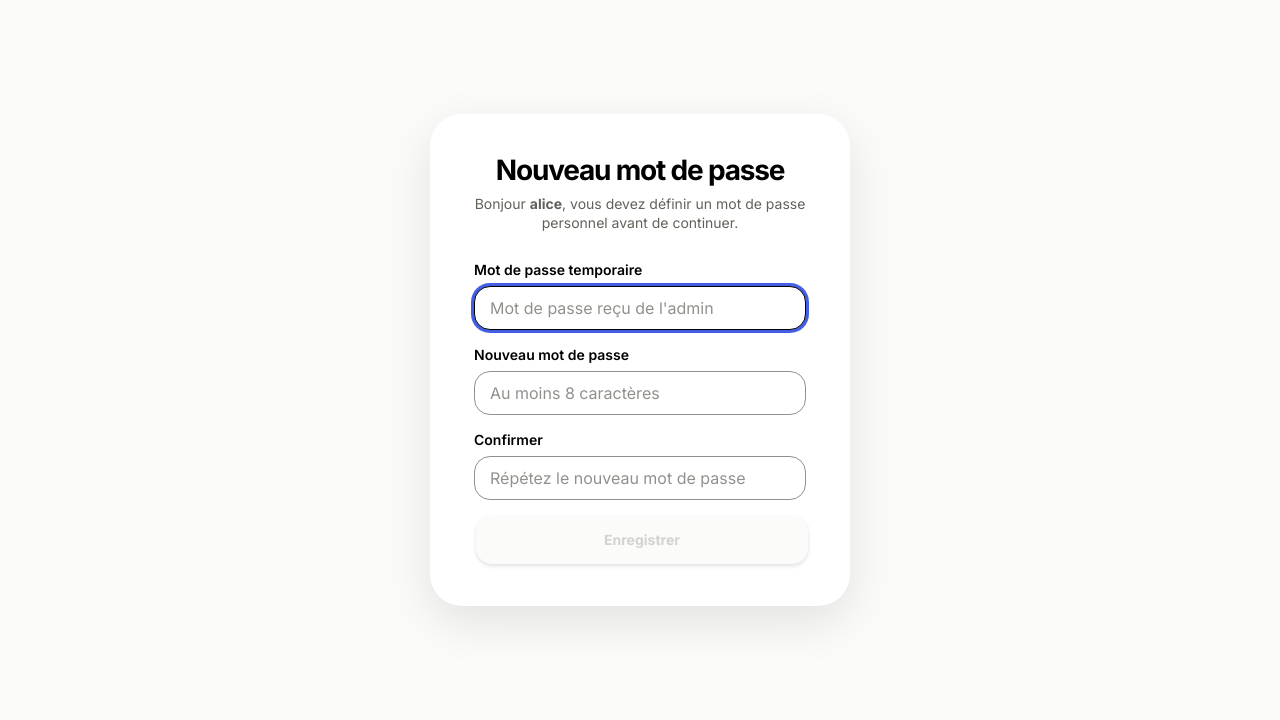
Test: ChangePasswordPage › affiche une erreur en cas de mauvais ancien mot de passe
Type "mauvais" into the password field labelled "Mot de passe temporaire" at point(640, 308), box [474,286,806,330]
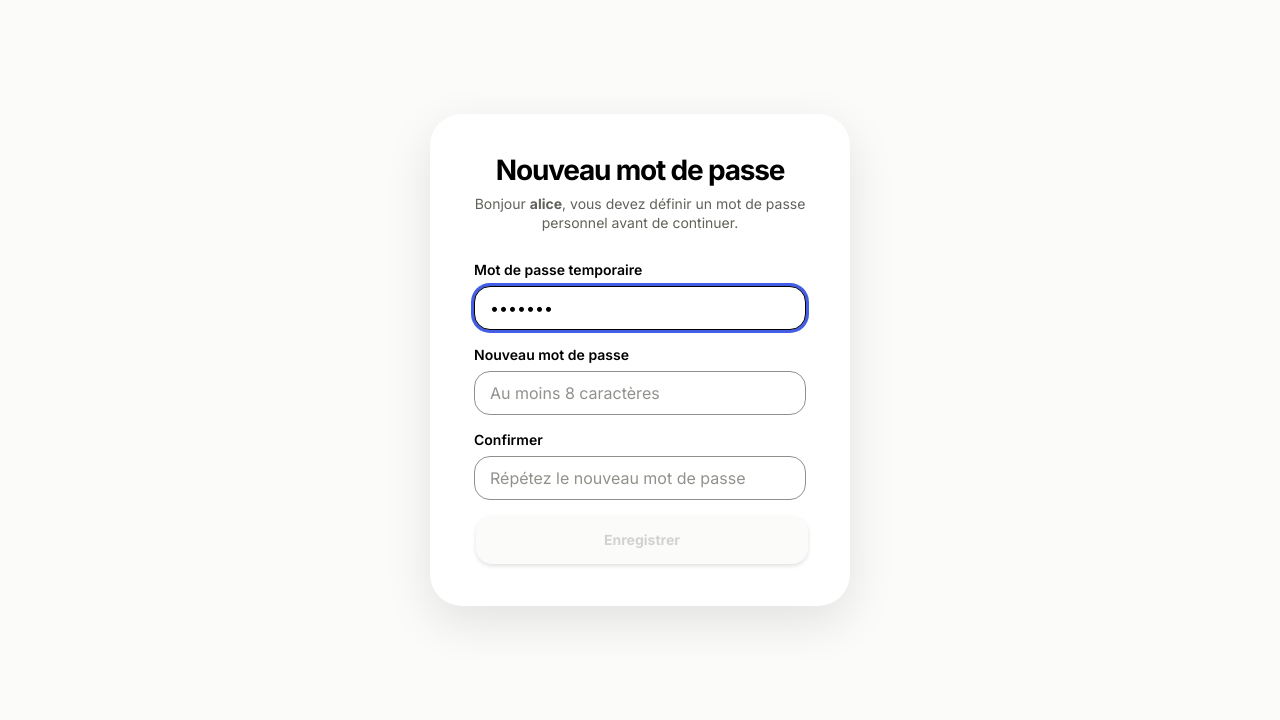
Type "nouveauPass1!" into the password field labelled "Nouveau mot de passe" at point(640, 393), box [474,371,806,415]
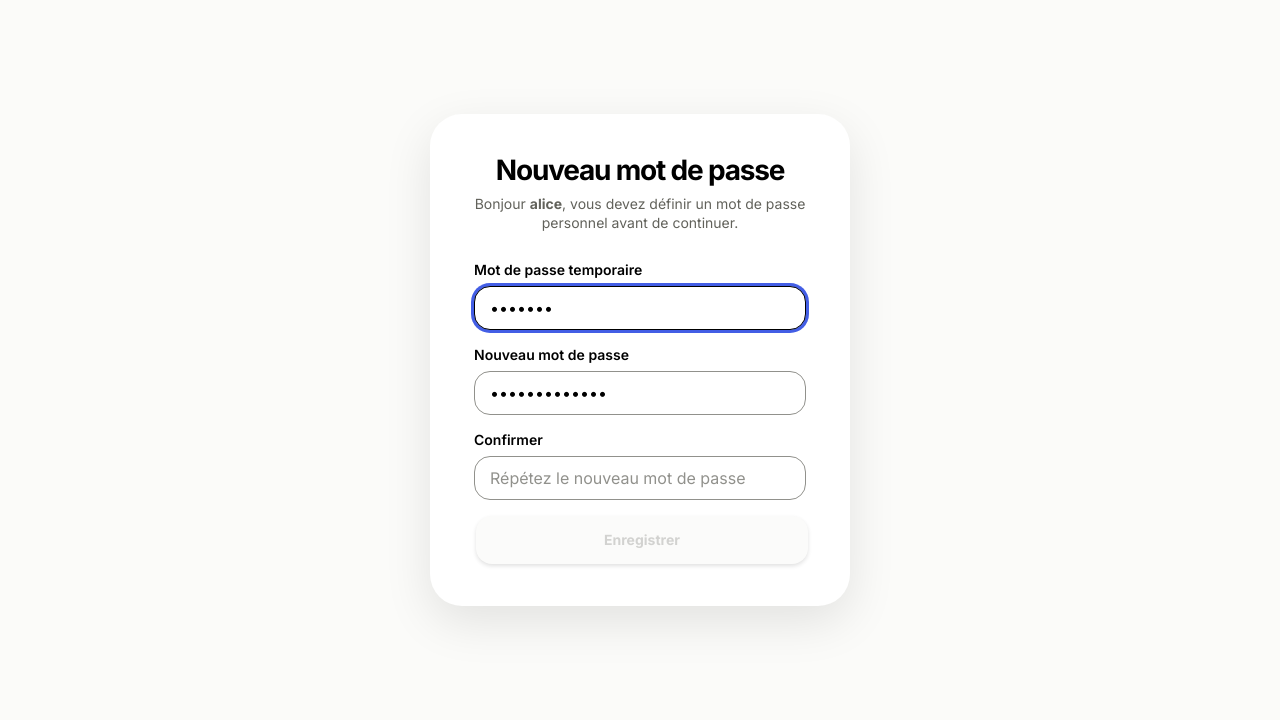
Type "nouveauPass1!" into the password field labelled "Confirmer" at point(640, 478), box [474,456,806,500]
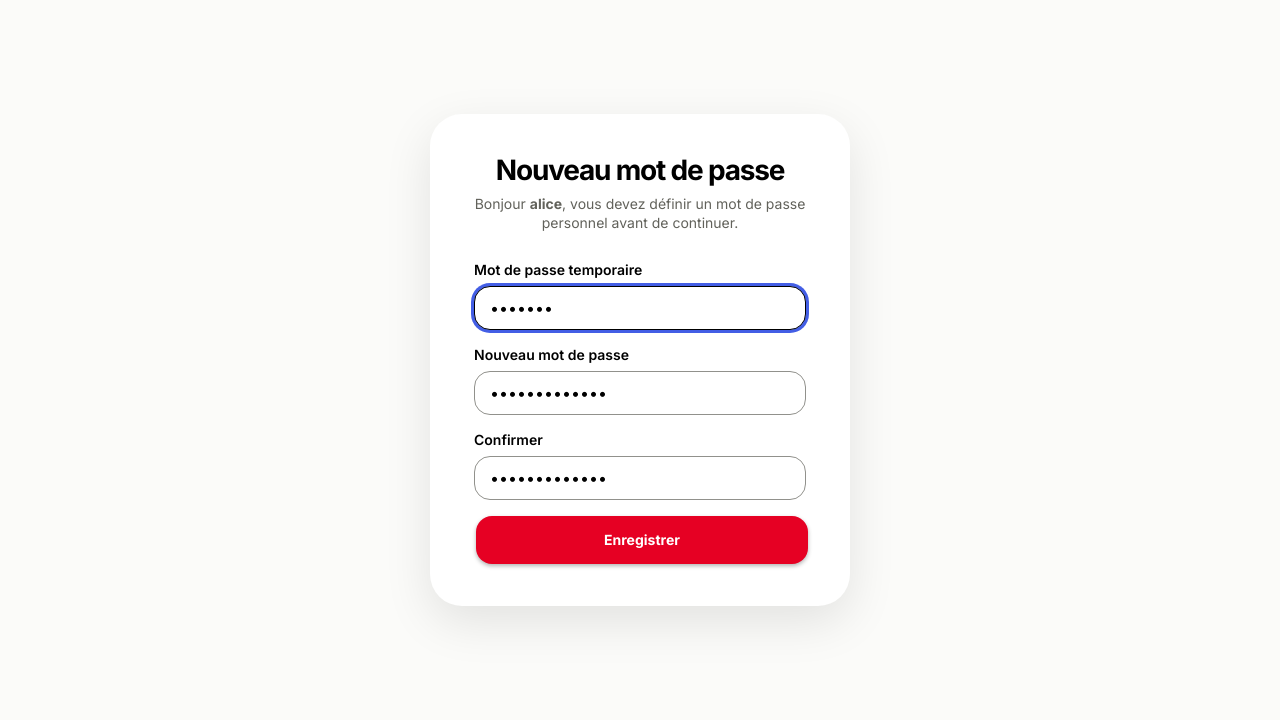
Click the button "Enregistrer" at point(642, 540), box [476,516,808,564]
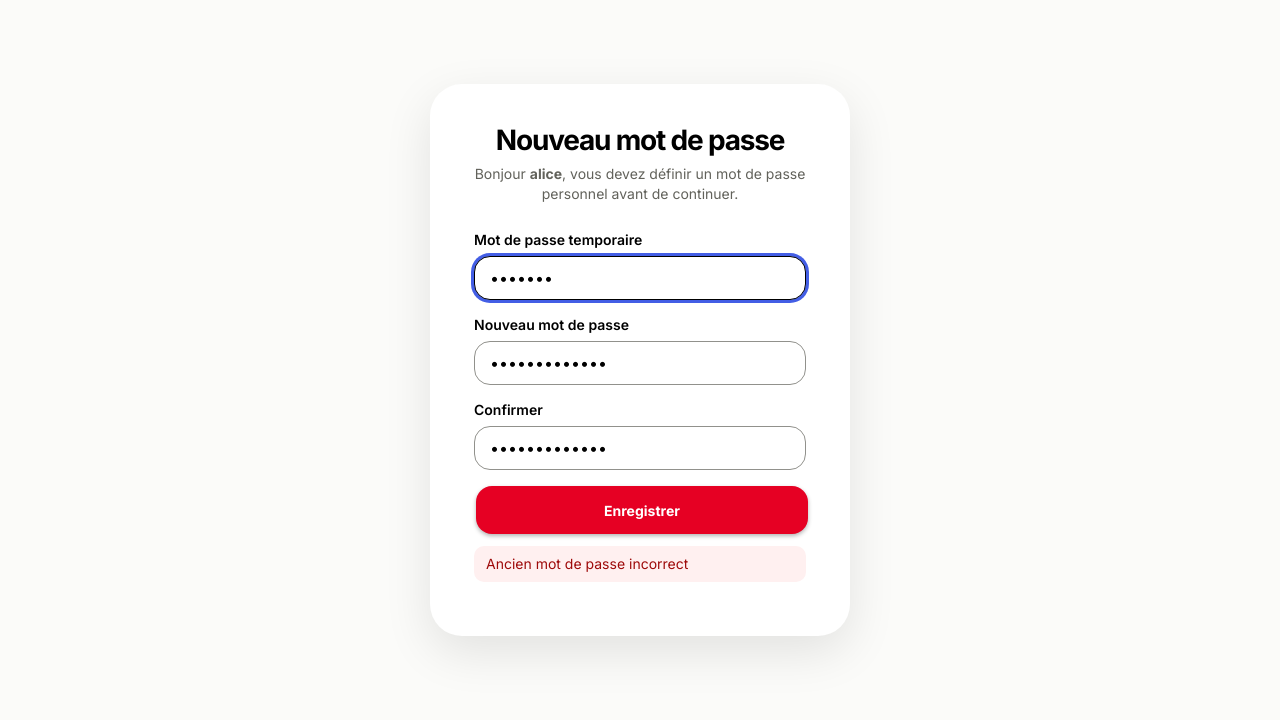
Expected: the text "Ancien mot de passe incorrect" is shown, [474,546,806,582]
